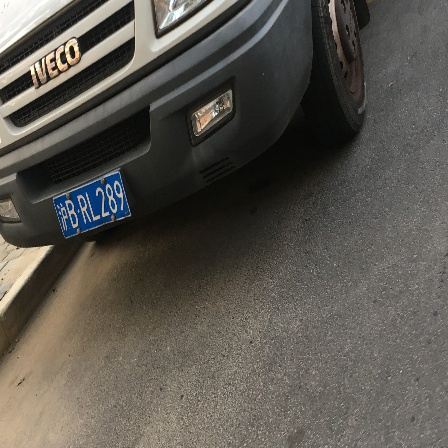plate: (48, 170, 135, 234)
